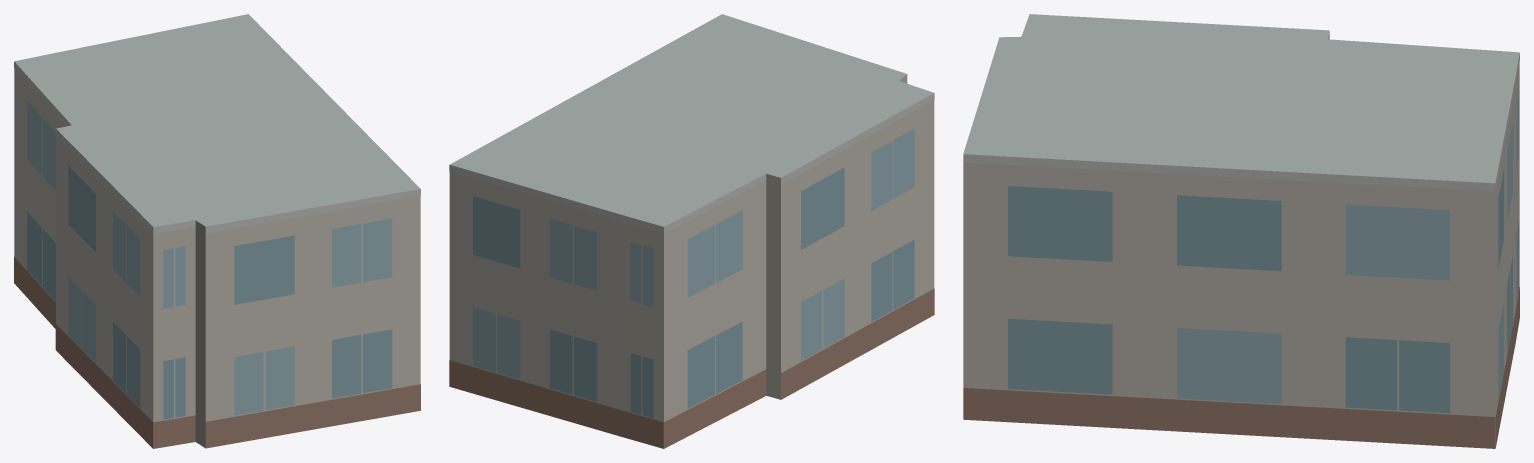
The model's file is survey-upis-32642135.glb.
3 renders of one model, left to right at view 1: azimuth 30°, elevation 25°; view 2: azimuth 150°, elevation 25°; view 3: azimuth 270°, elevation 25°, orthographic. The views are drawn at different scales.
Parts seen in each view (by area): view 1: survey-upis-32642135.tmp; view 2: survey-upis-32642135.tmp; view 3: survey-upis-32642135.tmp.
Boxes of the visible parts, <box> form: survey-upis-32642135.tmp: <box>14,14,420,448</box>; survey-upis-32642135.tmp: <box>449,14,934,448</box>; survey-upis-32642135.tmp: <box>963,14,1519,448</box>.
Size of the model in its own units: 10.81 by 7.9 by 15.02.
